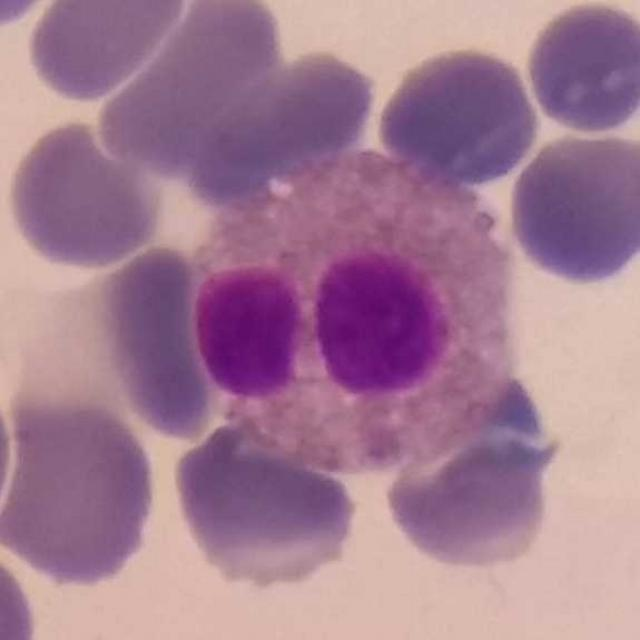Eosinophil: (191, 149, 516, 482)
RBC: (167, 407, 365, 591), (94, 2, 292, 180), (0, 395, 164, 590), (91, 241, 235, 442), (203, 42, 384, 197), (371, 40, 544, 194), (379, 428, 560, 572), (2, 115, 165, 272), (503, 126, 640, 289), (21, 0, 190, 105), (521, 1, 640, 138), (0, 534, 42, 639), (0, 366, 18, 552), (0, 0, 65, 33)
